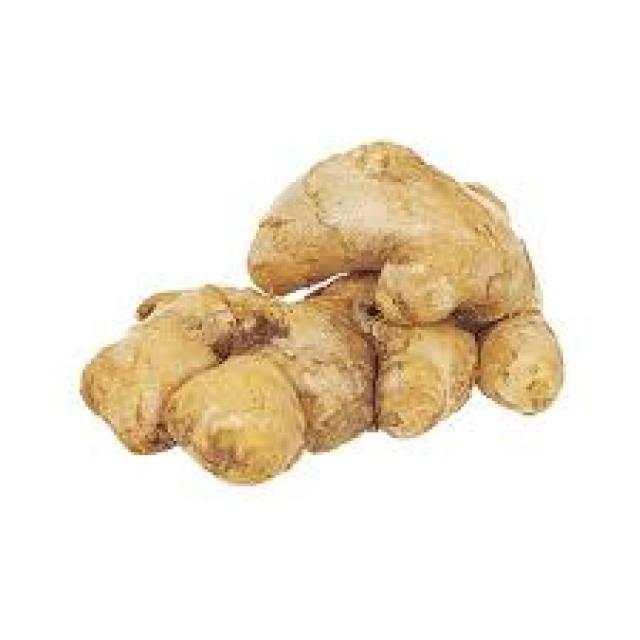ginger: (55, 130, 573, 504)
